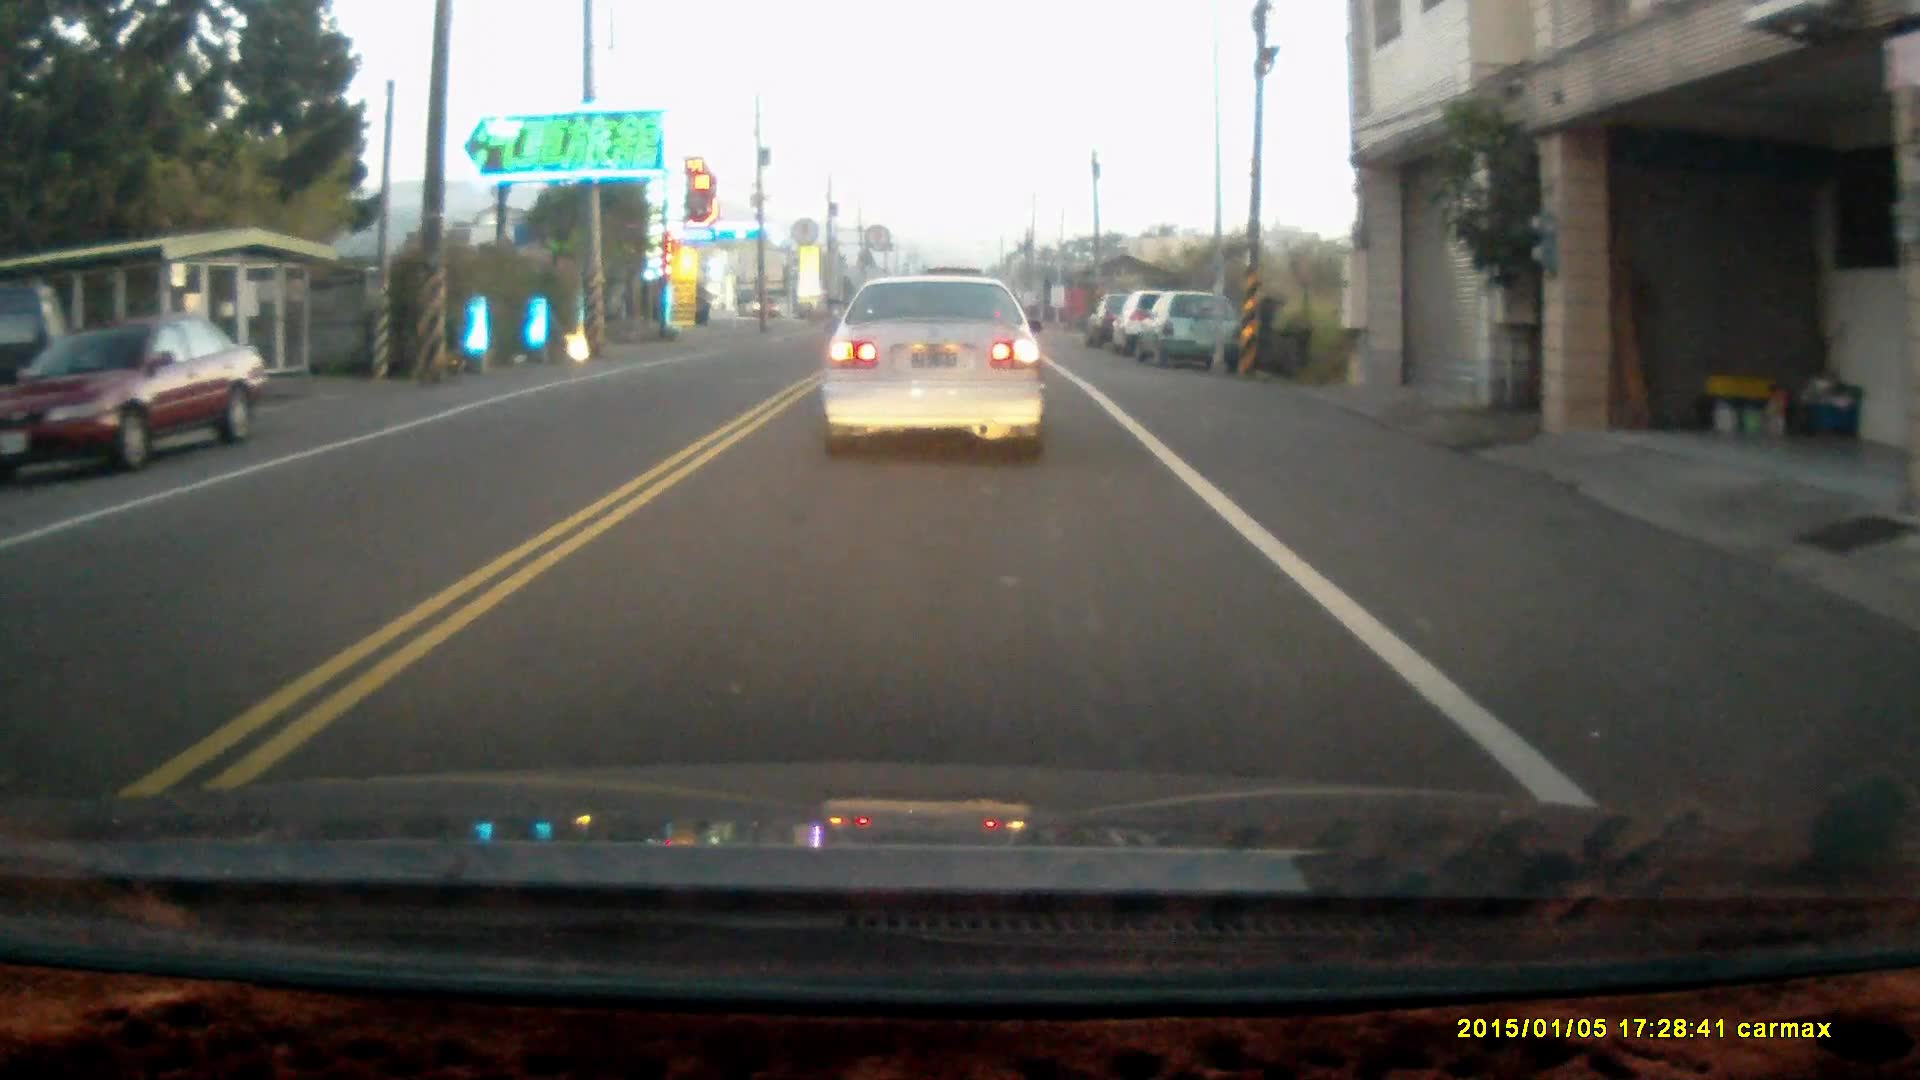vehicle: (1, 314, 280, 483), (819, 272, 1047, 462), (1135, 291, 1240, 368), (1116, 293, 1201, 359), (1087, 291, 1168, 353)
